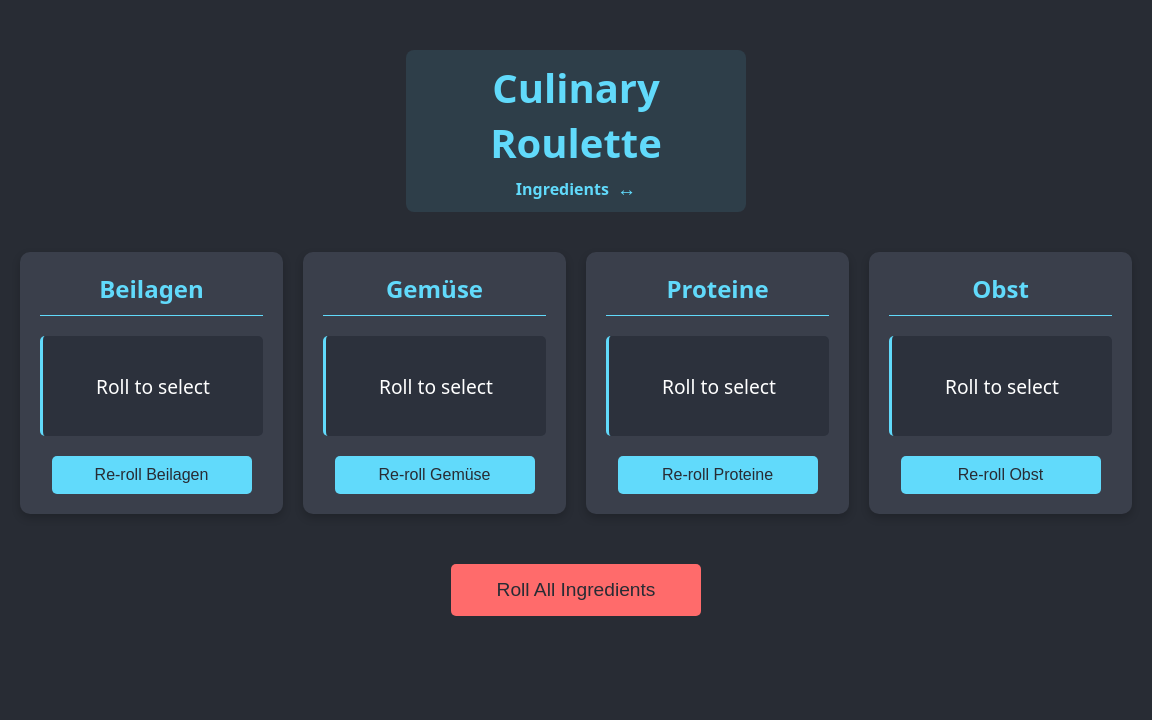
Test: toggles to recipe mode when app title is clicked
Note: Click the app title to toggle
What coordinates should you click on to do the following:
click the heading "Culinary Roulette Ingredients ↔"
I would click on:
 (576, 131)
Its box is [406, 50, 746, 212].
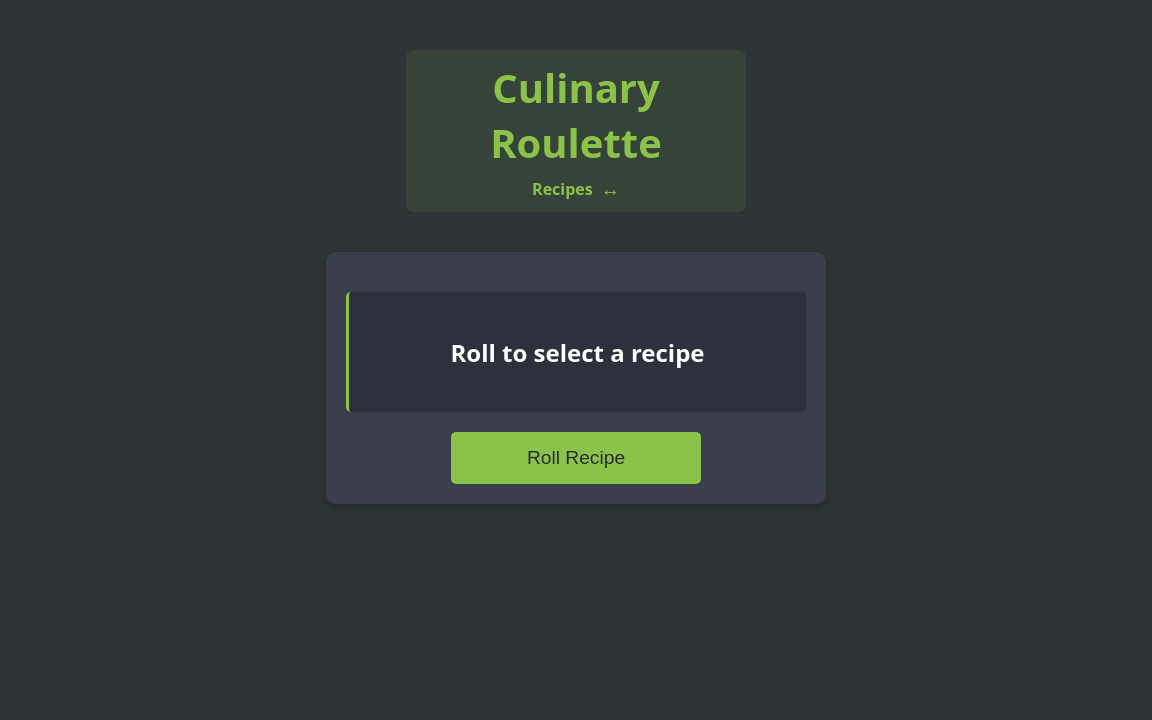
Expected: the button "Roll Recipe" is shown, [451, 432, 701, 484]
Expected: the button "Roll All Ingredients" is gone
Expected: the text "Recipes ↔" is shown, [532, 175, 620, 202]
